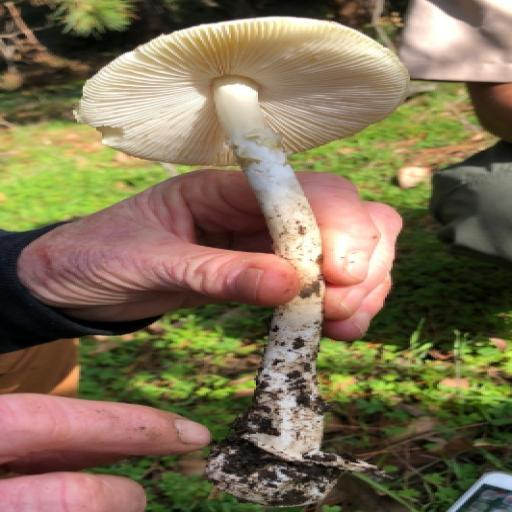mushroom: (35, 0, 401, 495)
